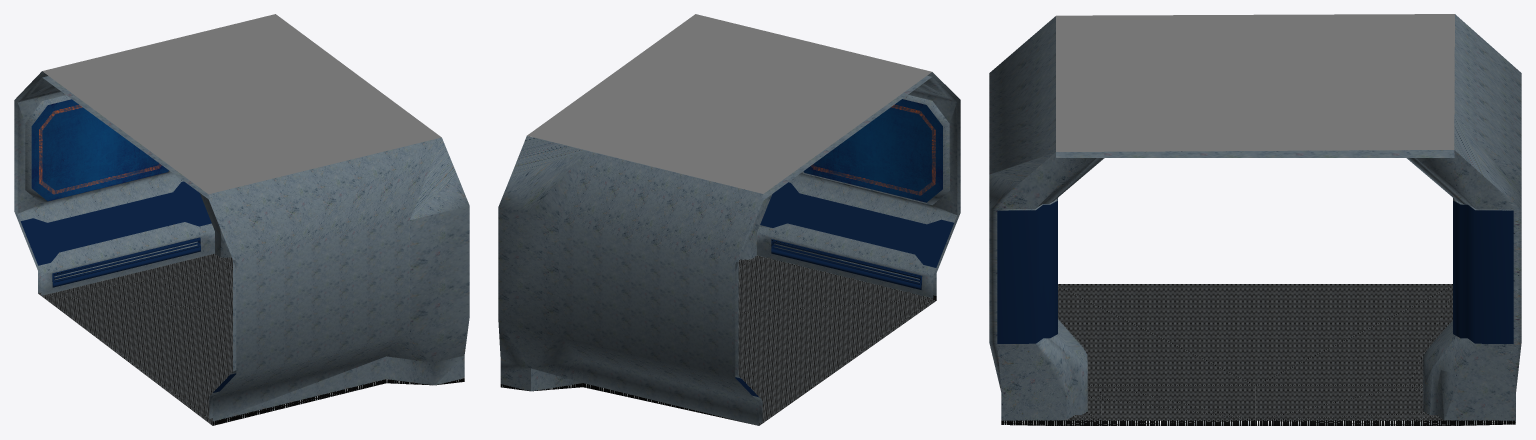
Rendered from pasillo_2.obj.
3 views of the same model, side by side, from view 1: azimuth 30°, elevation 25°; view 2: azimuth 150°, elevation 25°; view 3: azimuth 270°, elevation 25° (orthographic). The views are drawn at different scales.
Parts seen in each view (by area): view 1: pasillo_hangar_salaespera:polyS1, pasillo_hangar_salaespera:polyS2, pasillo_hangar_salaespera:polySu, pasillo_hangar_salaespera:polyS0, pasillo_hangar_salaespera:pared1; view 2: pasillo_hangar_salaespera:pared1, pasillo_hangar_salaespera:polyS2, pasillo_hangar_salaespera:polyS1, pasillo_hangar_salaespera:polySu, pasillo_hangar_salaespera:azul2; view 3: pasillo_hangar_salaespera:polyS2, pasillo_hangar_salaespera:polySu, pasillo_hangar_salaespera:pared1, pasillo_hangar_salaespera:polyS1, pasillo_hangar_salaespera:azul2, pasillo_hangar_salaespera:polyS0.
Part boxes in pixels (bbox=[...]): pasillo_hangar_salaespera:polyS1: bbox=[208, 137, 469, 421]; pasillo_hangar_salaespera:polyS2: bbox=[42, 14, 441, 199]; pasillo_hangar_salaespera:polySu: bbox=[38, 253, 464, 425]; pasillo_hangar_salaespera:polyS0: bbox=[20, 99, 211, 287]; pasillo_hangar_salaespera:pared1: bbox=[14, 71, 231, 295]; pasillo_hangar_salaespera:pared1: bbox=[498, 136, 763, 425]; pasillo_hangar_salaespera:polyS2: bbox=[527, 14, 931, 200]; pasillo_hangar_salaespera:polyS1: bbox=[739, 72, 960, 298]; pasillo_hangar_salaespera:polySu: bbox=[500, 255, 936, 425]; pasillo_hangar_salaespera:azul2: bbox=[760, 182, 953, 289]; pasillo_hangar_salaespera:polyS2: bbox=[1056, 14, 1454, 157]; pasillo_hangar_salaespera:polySu: bbox=[1001, 284, 1515, 425]; pasillo_hangar_salaespera:pared1: bbox=[1406, 14, 1521, 420]; pasillo_hangar_salaespera:polyS1: bbox=[989, 16, 1104, 420]; pasillo_hangar_salaespera:azul2: bbox=[997, 198, 1057, 343]; pasillo_hangar_salaespera:polyS0: bbox=[1453, 201, 1513, 343].
Bounding box in the file's own units: 18 × 16.86 × 29.45.
